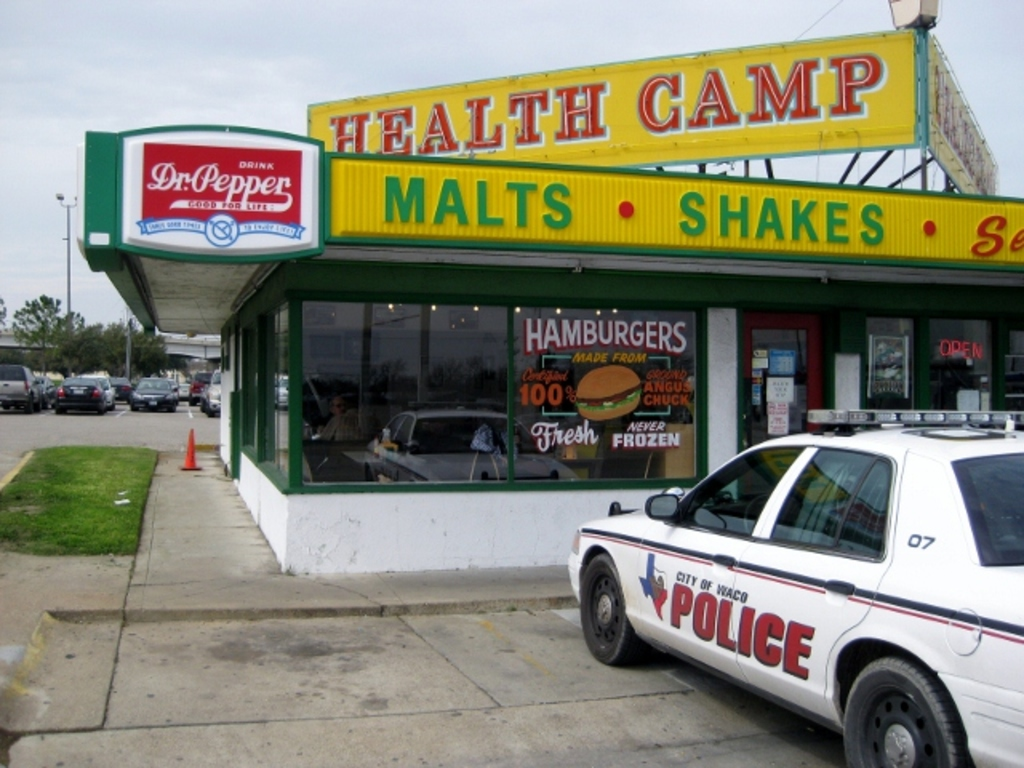mobil: (568, 433, 1024, 759)
